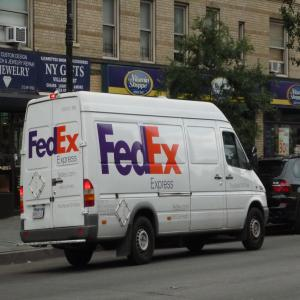Vehicle-registration-plate: (32, 208, 45, 219)
